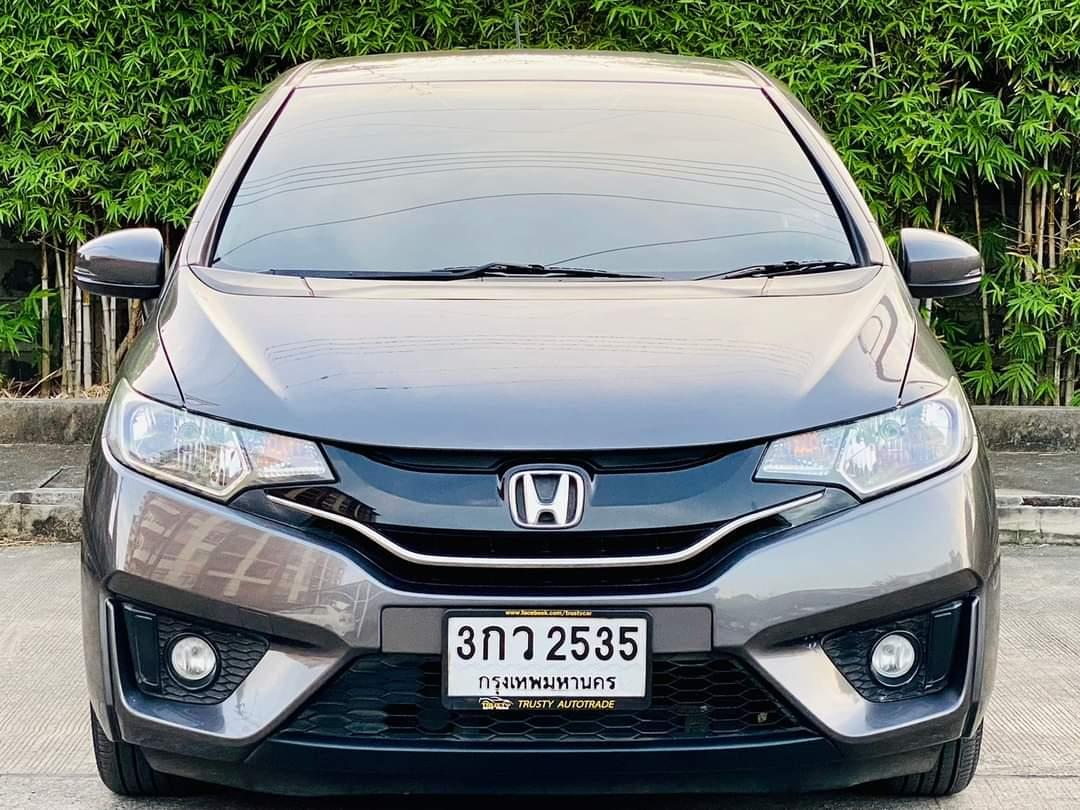license-plate: (443, 604, 652, 716)
